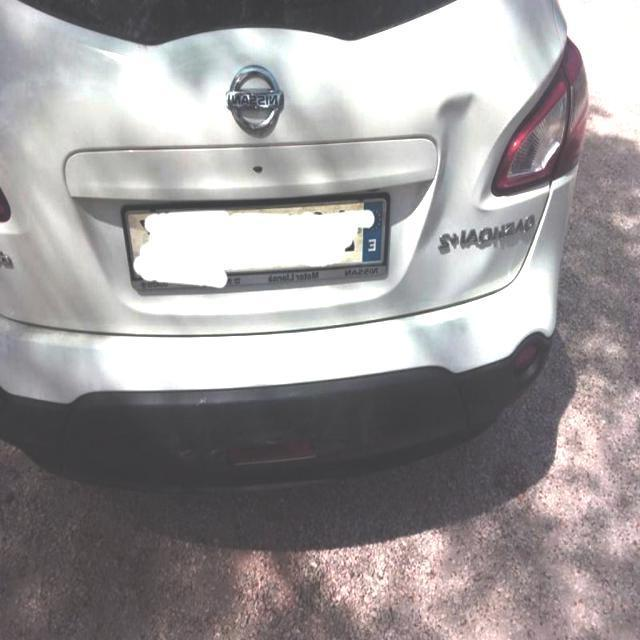minor: (400, 191, 495, 292), (433, 90, 496, 194)
